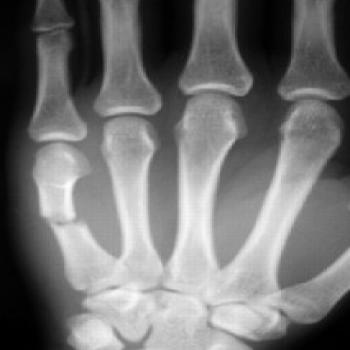Fracture: (37, 205, 95, 232)
